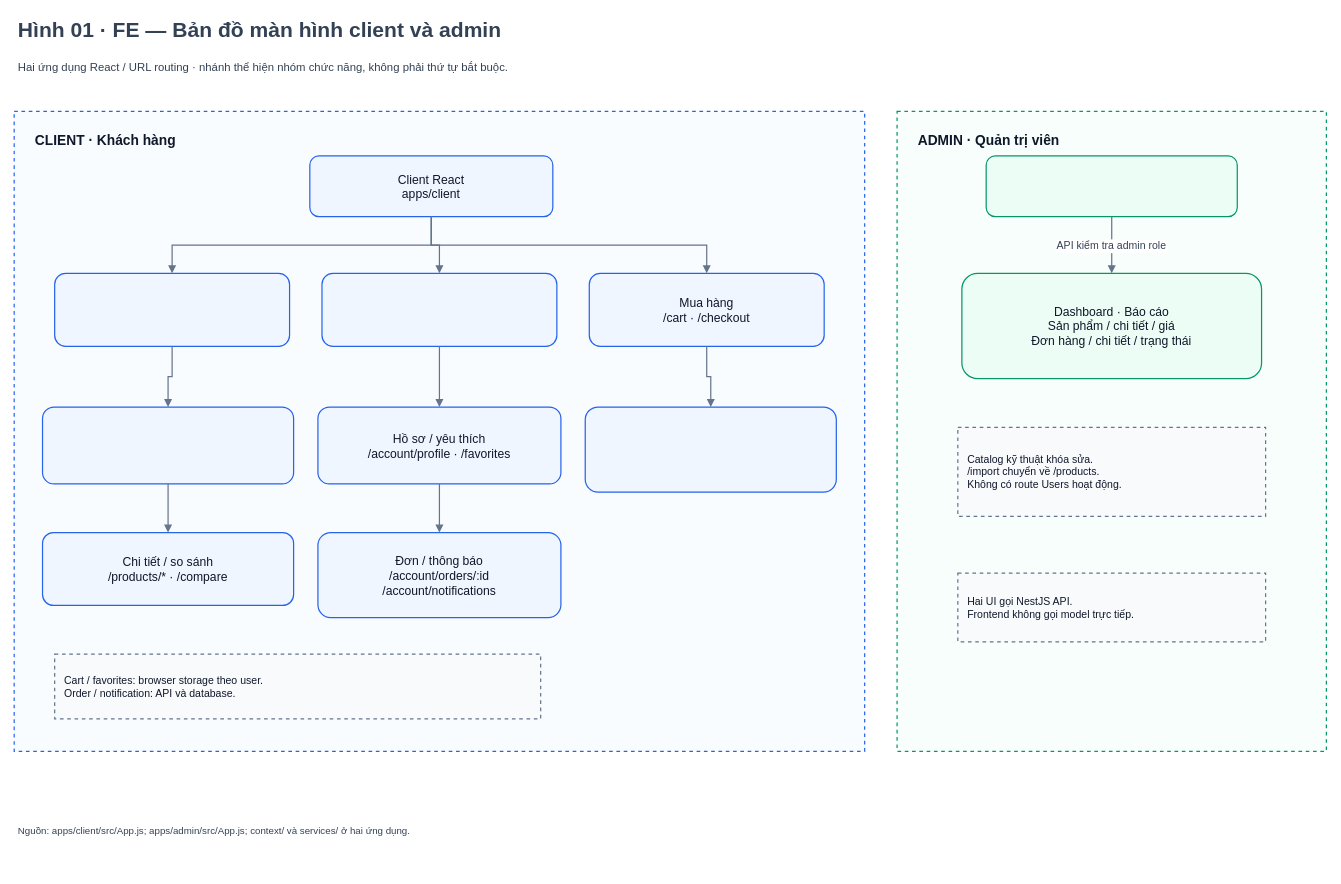
This 1341x884 diagram has some shape labels left out. Each missing label, with the centre of its shape:
Admin React Login / phiên admin: the point at 1111,186
Checkout / kết quả /orders/:id/success VNPay return: the point at 710,449
Khám phá / · /search · /products: the point at 172,309
Kết quả / follow-up Guidance · explanation · evidence: the point at 168,445
Tài khoản / phiên /login · /register · /account: the point at 439,309
